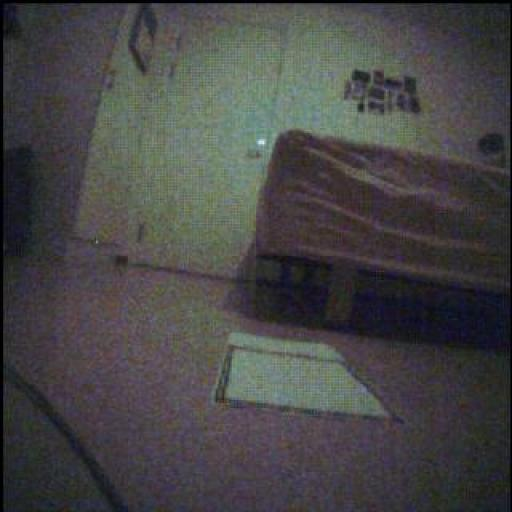pad: (216, 334, 400, 420)
